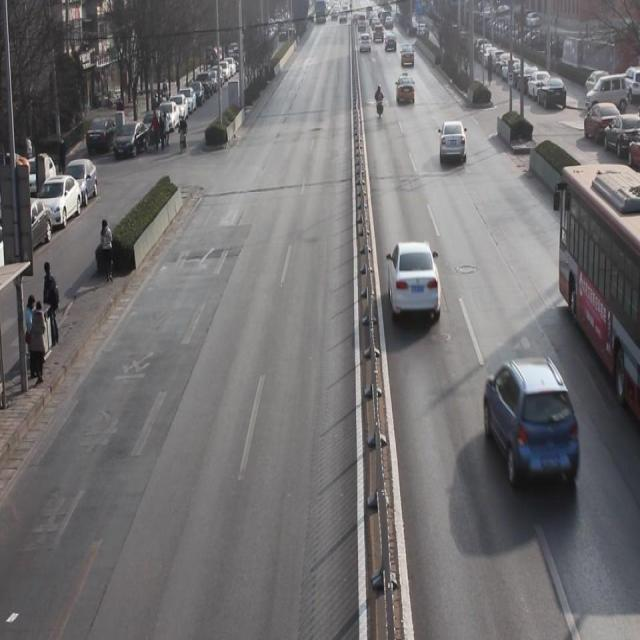car: (483, 357, 580, 501), (387, 242, 442, 326), (439, 119, 469, 167), (396, 73, 416, 110), (400, 44, 416, 70)
van: (556, 166, 640, 419)
